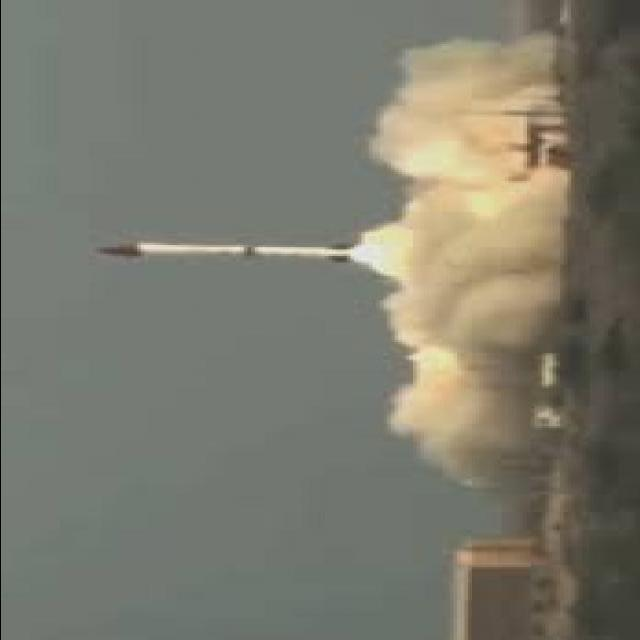missile: (102, 235, 352, 267)
